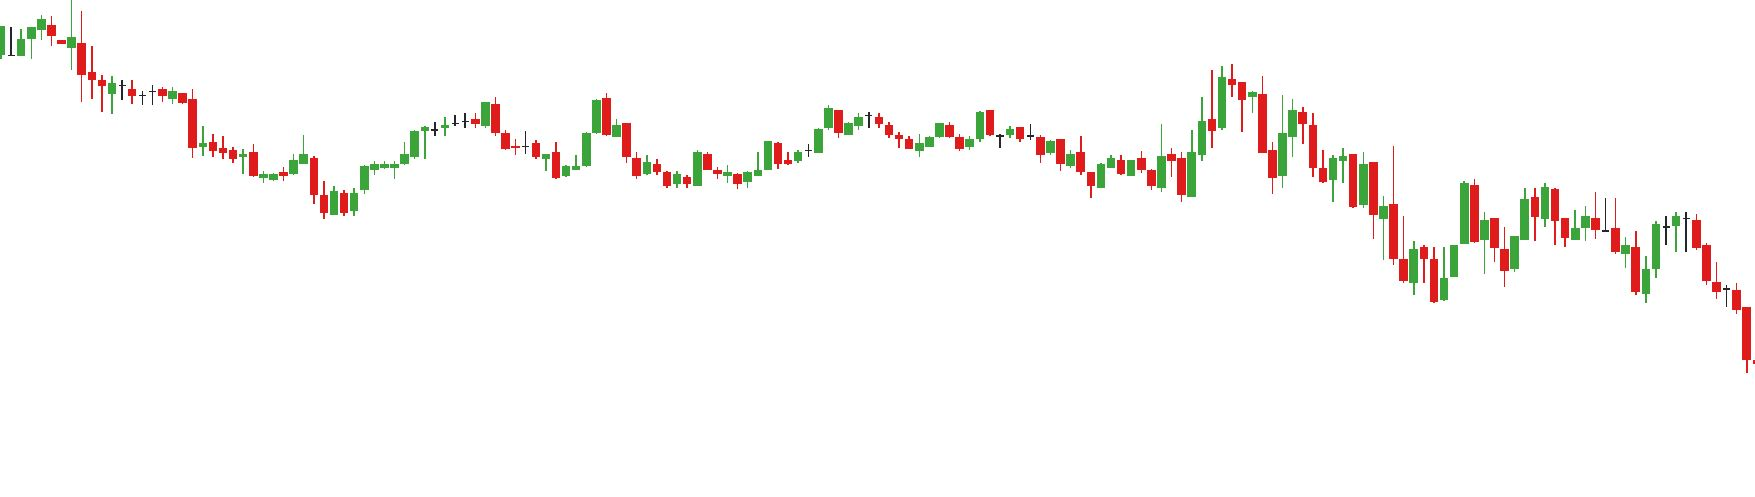sell: (480, 91, 614, 162)
